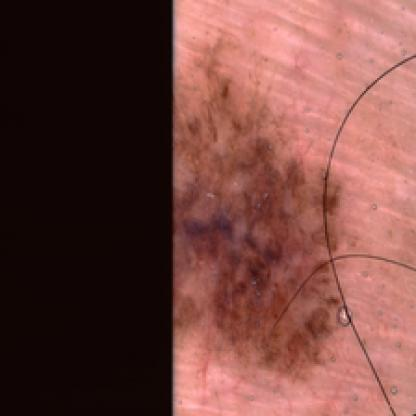malignant: (184, 96, 353, 353)
